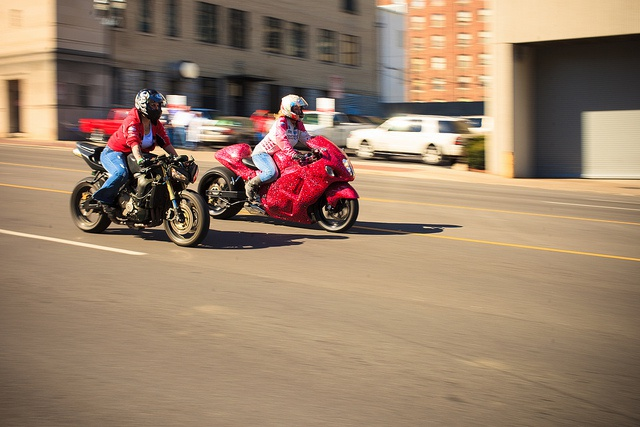non-vehicle: (197, 134, 358, 232), (68, 142, 210, 246)
